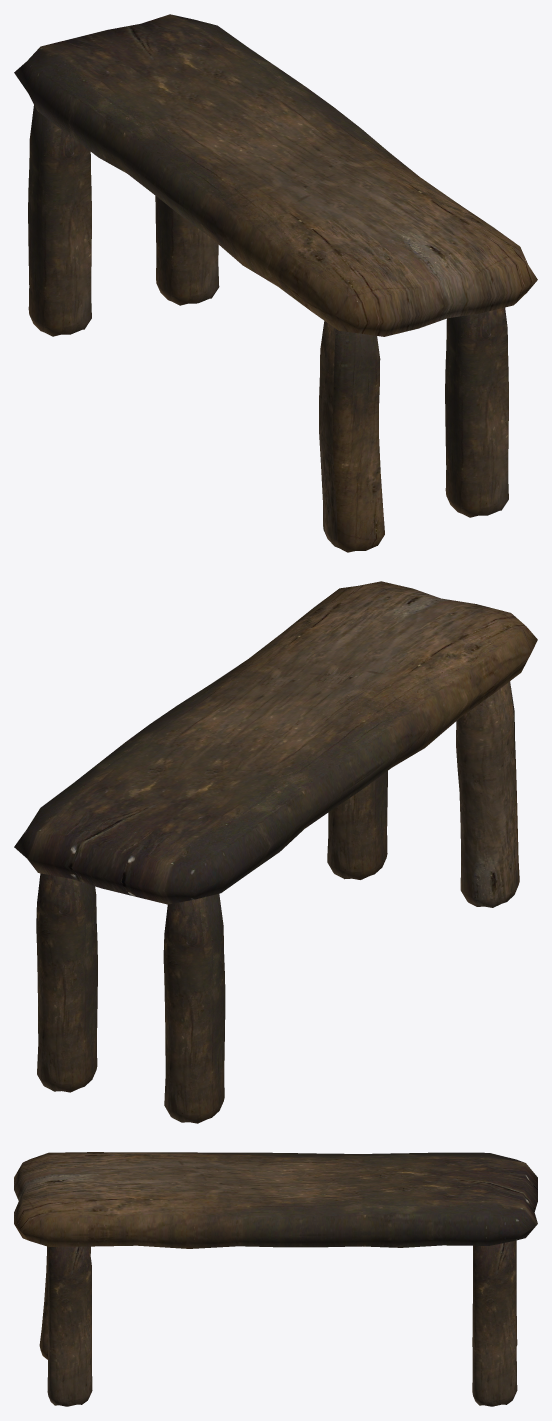
Rendered from bench.obj.
The picture shows the model from 3 angles, top to bottom: view 1: azimuth 30°, elevation 25°; view 2: azimuth 150°, elevation 25°; view 3: azimuth 270°, elevation 25°; orthographic projection. The views are drawn at different scales.
Visible parts, largest first — view 1: bench; view 2: bench; view 3: bench.
Boxes of the visible parts, x1,y1,x2,y2 form: bench: (14, 14, 537, 552); bench: (14, 581, 537, 1123); bench: (14, 1152, 537, 1406).
Size of the model in its own units: 0.4054 by 0.5435 by 1.24.
1 material, 1 textured.
